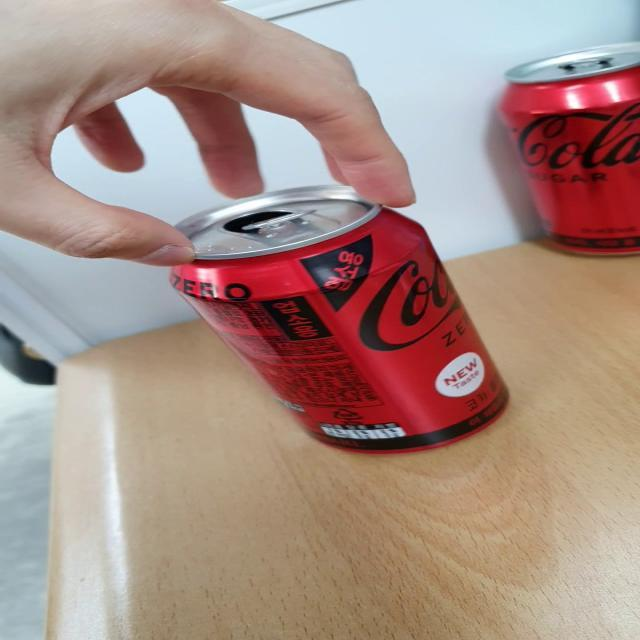coca-cola: (150, 166, 534, 474), (498, 28, 640, 272)
